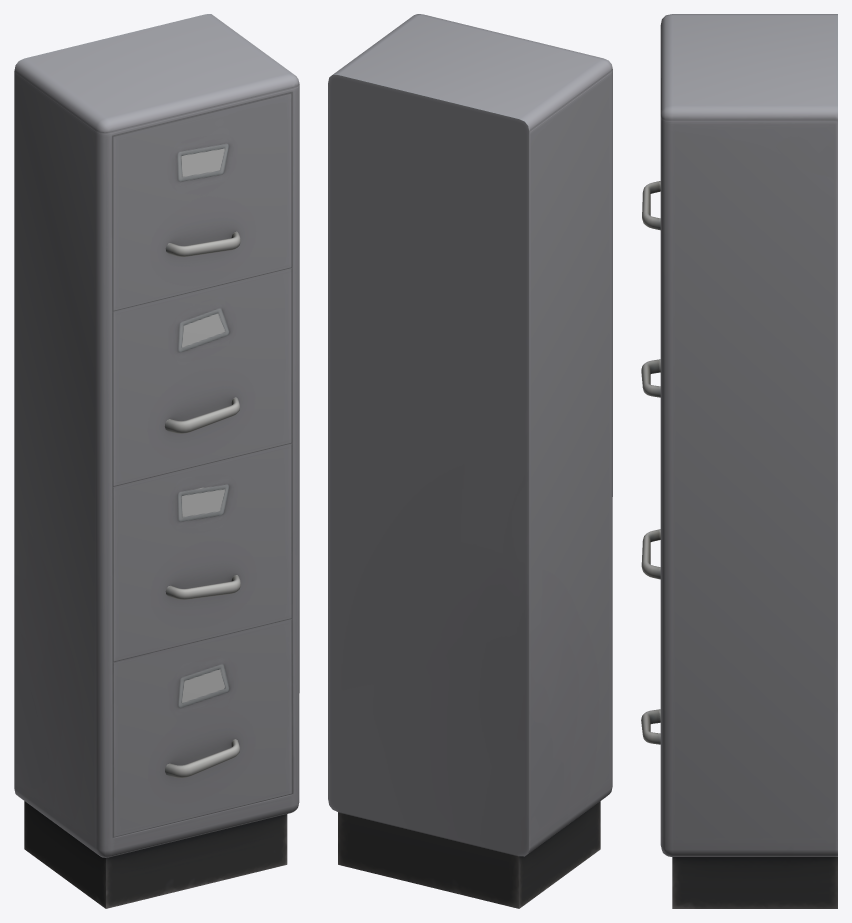
The model's file is OfficeFileCabinet01_1.FBX.
3 renders of one model, left to right at view 1: azimuth 30°, elevation 25°; view 2: azimuth 150°, elevation 25°; view 3: azimuth 270°, elevation 25°, orthographic.
Visible parts, largest first — view 1: OfficeFileCabinet01_1; view 2: OfficeFileCabinet01_1; view 3: OfficeFileCabinet01_1.
Part boxes in pixels (x1,y1,x2,y2): OfficeFileCabinet01_1: (14, 14, 299, 908); OfficeFileCabinet01_1: (328, 14, 612, 908); OfficeFileCabinet01_1: (641, 14, 837, 908).
Size of what is drawn, in the model's own units: 0.44 by 1.65 by 0.3665.
